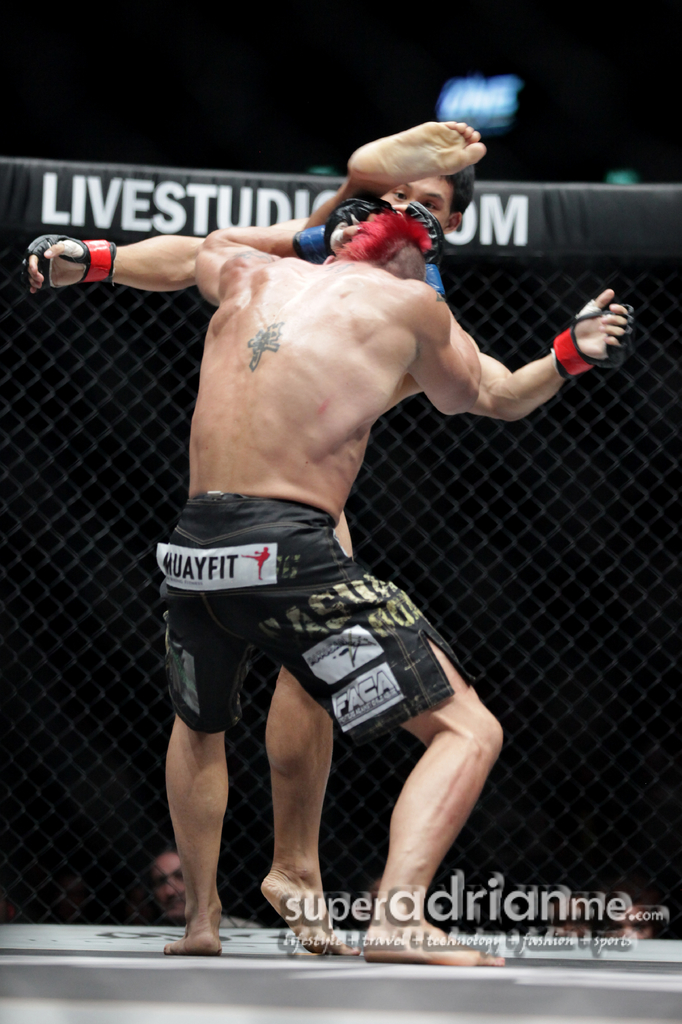face: (369, 158, 452, 273)
